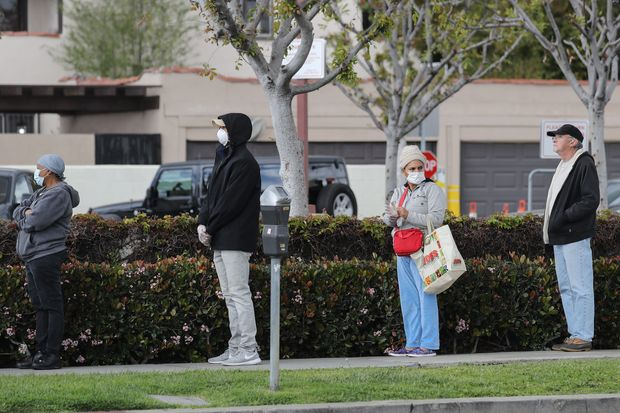Caution: (9, 111, 261, 369), (196, 112, 445, 365), (379, 123, 601, 358)
